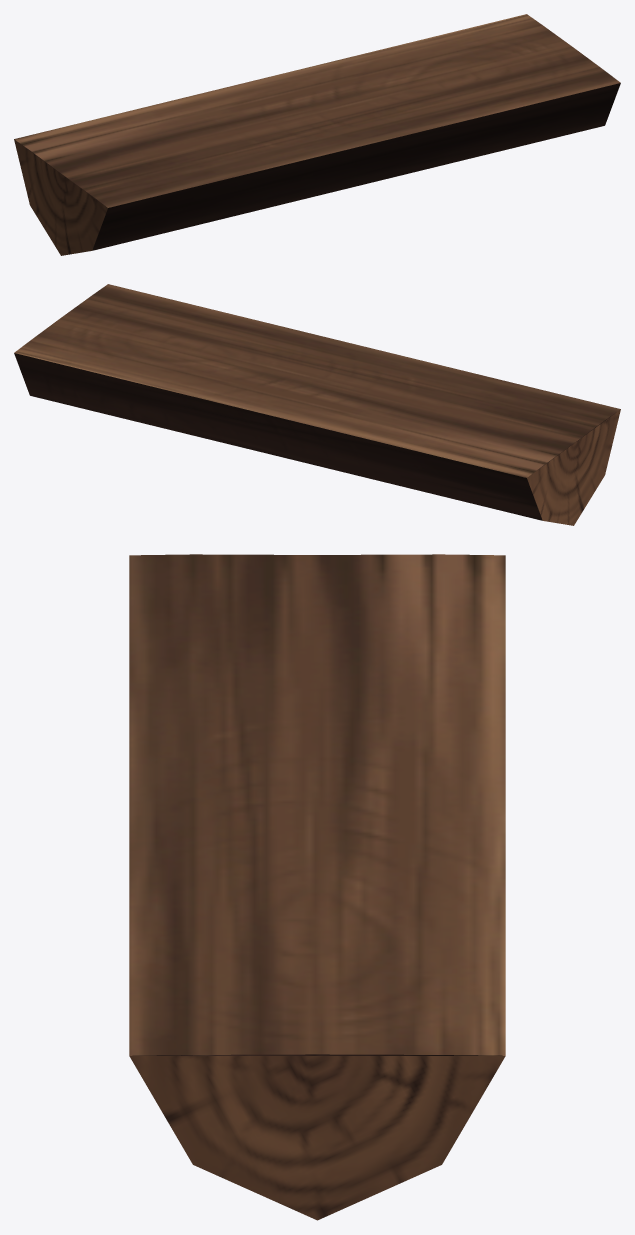
The model's file is Lumber_ex.FBX.
3 renders of one model, top to bottom at view 1: azimuth 30°, elevation 25°; view 2: azimuth 150°, elevation 25°; view 3: azimuth 270°, elevation 25°, orthographic. The views are drawn at different scales.
Visible parts, largest first — view 1: Box002; view 2: Box002; view 3: Box002.
Boxes of the visible parts, box(x1,y1,x2,y2) form: Box002: box(14, 14, 620, 255); Box002: box(14, 284, 620, 525); Box002: box(129, 554, 505, 1220).
Size of the model in its own units: 15.39 by 2.38 by 4.89.
